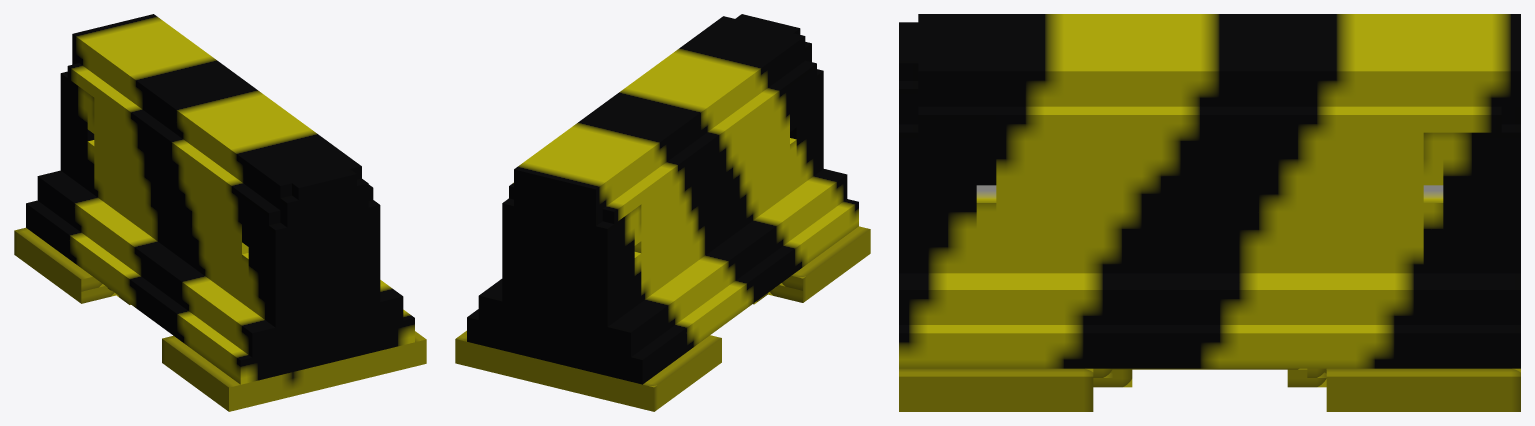
File: blokada_drogowa_kolor.dae
3 views of the same model, side by side, from view 1: azimuth 30°, elevation 25°; view 2: azimuth 150°, elevation 25°; view 3: azimuth 270°, elevation 25° (orthographic). The views are drawn at different scales.
Parts seen in each view (by area): view 1: Content; view 2: Content; view 3: Content.
Boxes of the visible parts, x1,y1,x2,y2 form: Content: (14, 14, 426, 411); Content: (455, 14, 870, 411); Content: (899, 14, 1520, 411).
Size of the model in its own units: 17 by 17 by 32.
Materials: 1 (1 with a texture image).
